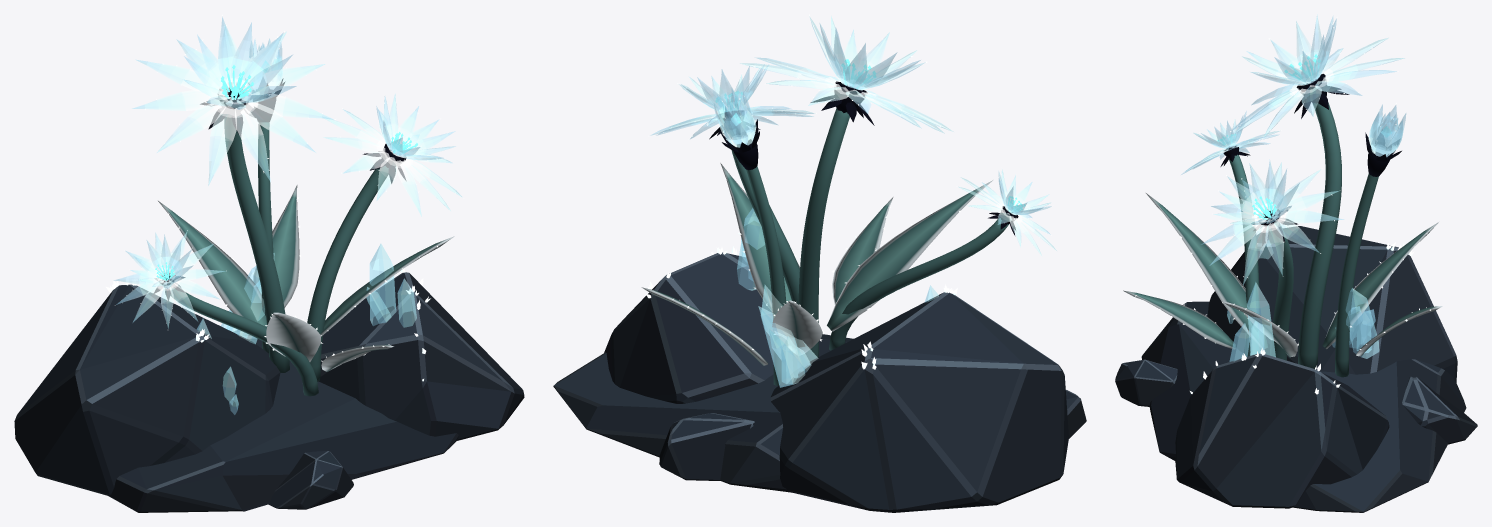
File: f2_ice_crystal_bloom.glb
3 renders of one model, left to right at view 1: azimuth 30°, elevation 25°; view 2: azimuth 150°, elevation 25°; view 3: azimuth 270°, elevation 25°, orthographic. The views are drawn at different scales.
Visible parts, largest first — view 1: f2_ice_crystal_bloom; view 2: f2_ice_crystal_bloom; view 3: f2_ice_crystal_bloom.
Boxes of the visible parts, x1,y1,x2,y2 form: f2_ice_crystal_bloom: (14, 14, 524, 512); f2_ice_crystal_bloom: (553, 14, 1086, 512); f2_ice_crystal_bloom: (1115, 14, 1477, 512).
Size of the model in its own units: 0.234 by 0.195 by 0.1696.
